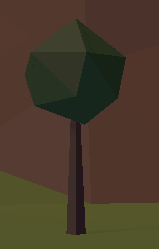tree: (23, 16, 136, 235)
